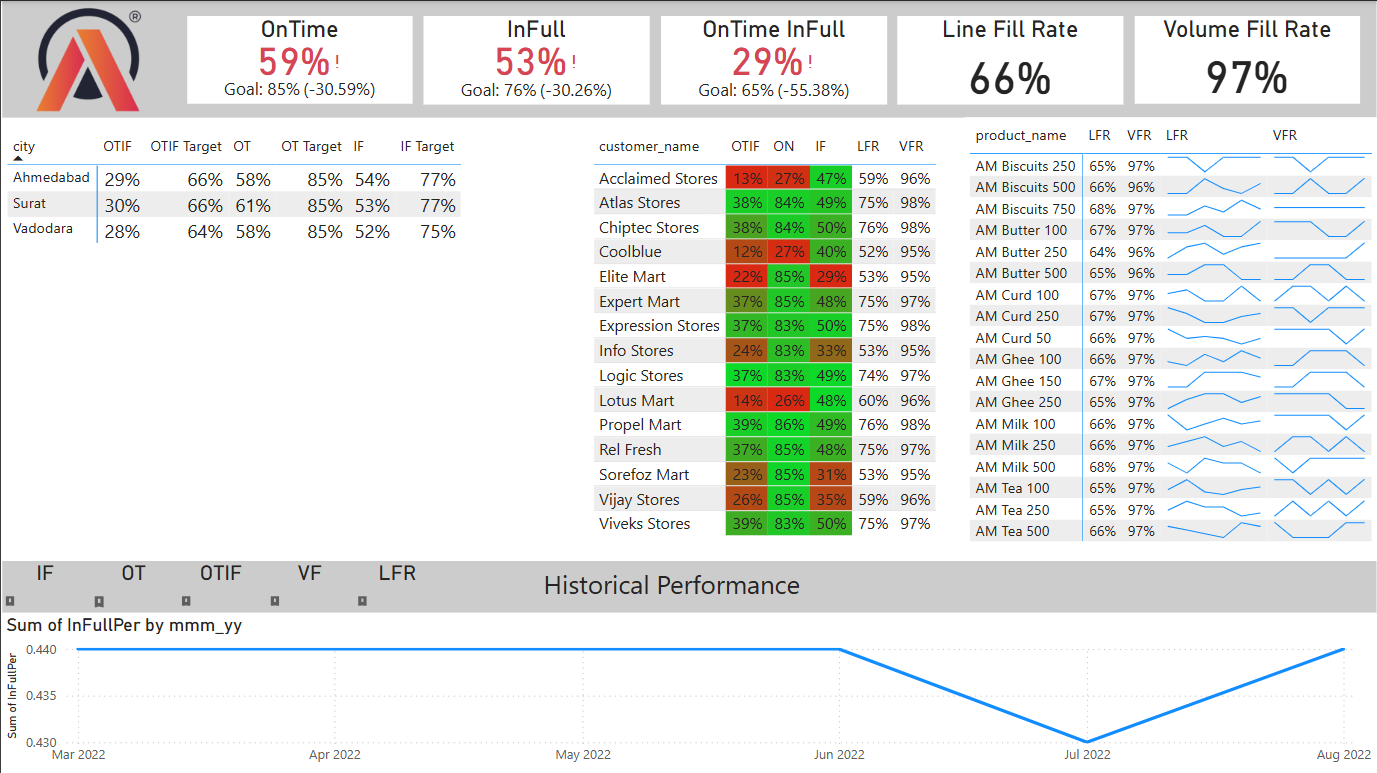

What the dashboard file says about the page in this screenshot:
{"tool":"powerbi","page":{"name":"Page 1","canvas":[1280,720],"ordinal":0},"visuals":[{"type":"shape","box":[1.4,0,1278.6,108.5],"z":0},{"type":"kpi","title":"OnTime ","fields":{"Indicator":["Sum(Query1.OnTimePer)"],"Goal":["Sum(Query1.ontime_target)"],"TrendLine":["Query1.InFullPer"]},"box":[173.3,14,209.3,81.4],"z":1000},{"type":"kpi","title":"InFull","fields":{"Indicator":["Sum(Query1.InFullPer)"],"Goal":["Sum(Query1.infull_target)"],"TrendLine":["Query1.ontime_target"]},"box":[393.1,13.6,210,82.1],"z":2000},{"type":"kpi","title":"OnTime InFull","fields":{"Indicator":["Sum(Query1.OnTimeInFullPer)"],"TrendLine":["Query1.OnTimePer"],"Goal":["Sum(Query1.otif_target)"]},"box":[613.6,13.6,210,82.1],"z":3000},{"type":"card","title":"Line Fill Rate","fields":{"Values":["Sum(Query2.LineFillRate)"]},"box":[834.1,13.6,210.1,82.1],"z":4000},{"type":"card","title":"Volume Fill Rate","fields":{"Values":["Sum(Query2.VolumeFillRate)"]},"box":[1054.7,14,209.3,81.4],"z":5000},{"type":"pivotTable","fields":{"Rows":["Query3.city"],"Values":["Sum(Query3.OnTimeInFullPer)","Sum(Query3.otif_target)","Sum(Query3.OnTimePer)","Sum(Query3.ontime_target)","Sum(Query3.InFullPer)","Sum(Query3.infull_target)"]},"box":[1.2,118.9,438.3,122.5],"z":6000},{"type":"tableEx","fields":{"Values":["Query4.customer_name","Sum(Query4.OnTimeInFullPer)","Sum(Query4.OnTimePer)","Sum(Query4.InFullPer)","Sum(Query4.LineFillRate)","Sum(Query4.VolumeFillRate)"]},"box":[545.6,118.3,338.9,392.9],"z":7000},{"type":"lineChart","fields":{"Category":["Query5.mmm_yy"],"Y":["Sum(Query5.LineFillRate)"]},"box":[0,570,1280,150],"z":11000},{"type":"shape","box":[1.1,521.5,1278.5,48.2],"z":13000},{"type":"actionButton","title":"IF","box":[0,521.5,82.7,45.9],"z":14000},{"type":"actionButton","title":"VF","box":[246.2,521.1,81.7,45.6],"z":15000},{"type":"actionButton","title":"OT","box":[82.9,521.1,81.7,46.8],"z":16000},{"type":"actionButton","title":"OTIF","box":[164.5,521.1,81.7,45.6],"z":17000},{"type":"actionButton","title":"LFR","box":[327.8,521.1,81.7,45.6],"z":18000},{"type":"pivotTable","fields":{"Rows":["Query6.product_name"],"Values":["Sum(Query6.LineFillRate)","Sum(Query6.VolumeFillRate)","SparklineData(Sum(Query7.LineFillRate)_[Query7.mmm_yy])","SparklineData(Sum(Query7.VolumeFillRate)_[Query7.mmm_yy])"]},"box":[896,108.5,384,403.5],"z":19000},{"type":"textbox","box":[495.1,521.5,257.3,45.9],"z":20000},{"type":"image","box":[0,0,164.5,108.1],"z":21000}]}

Visuals, with their boxes in screenshot pixels (x1, y1, x2, y2), scaled from the page's 1280x720 canvas onto the 1377x773 screenshot:
shape: {"left": 2, "top": 0, "right": 1376, "bottom": 116}
"OnTime " kpi: {"left": 186, "top": 15, "right": 412, "bottom": 102}
"InFull" kpi: {"left": 423, "top": 15, "right": 649, "bottom": 103}
"OnTime InFull" kpi: {"left": 660, "top": 15, "right": 886, "bottom": 103}
"Line Fill Rate" card: {"left": 897, "top": 15, "right": 1123, "bottom": 103}
"Volume Fill Rate" card: {"left": 1135, "top": 15, "right": 1360, "bottom": 102}
pivotTable - Query3.city x Sum(Query3.OnTimeInFullPer): {"left": 1, "top": 128, "right": 473, "bottom": 259}
tableEx - Query4.customer_name x Sum(Query4.OnTimeInFullPer): {"left": 587, "top": 127, "right": 952, "bottom": 549}
lineChart - Query5.mmm_yy x Sum(Query5.LineFillRate): {"left": 0, "top": 612, "right": 1376, "bottom": 772}
shape: {"left": 1, "top": 560, "right": 1376, "bottom": 612}
"IF" actionButton: {"left": 0, "top": 560, "right": 89, "bottom": 609}
"VF" actionButton: {"left": 265, "top": 559, "right": 353, "bottom": 608}
"OT" actionButton: {"left": 89, "top": 559, "right": 177, "bottom": 610}
"OTIF" actionButton: {"left": 177, "top": 559, "right": 265, "bottom": 608}
"LFR" actionButton: {"left": 353, "top": 559, "right": 441, "bottom": 608}
pivotTable - Query6.product_name x Sum(Query6.LineFillRate): {"left": 964, "top": 116, "right": 1376, "bottom": 550}
textbox: {"left": 533, "top": 560, "right": 809, "bottom": 609}
image: {"left": 0, "top": 0, "right": 177, "bottom": 116}
